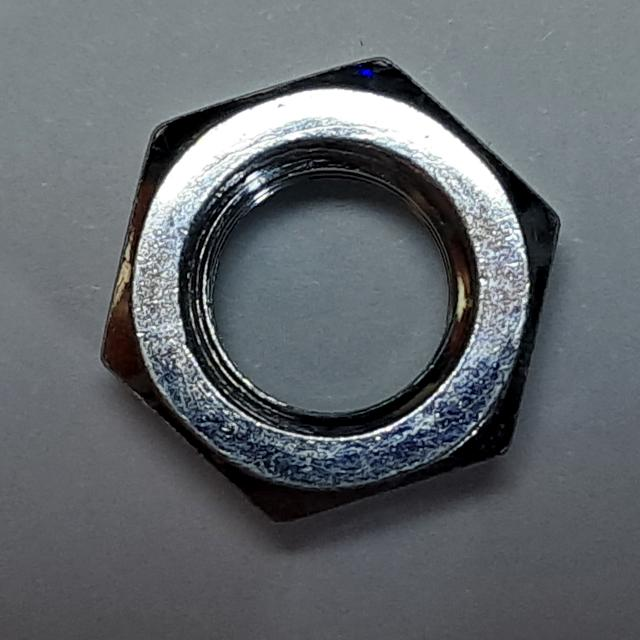Excellent: (87, 49, 570, 534)
